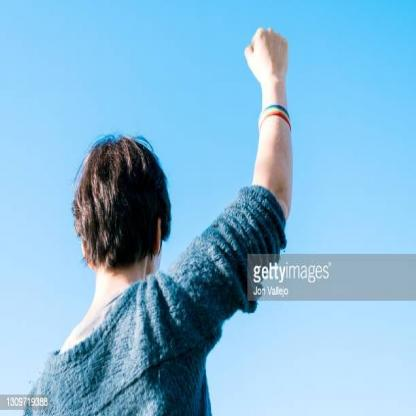fist: (236, 11, 303, 89)
